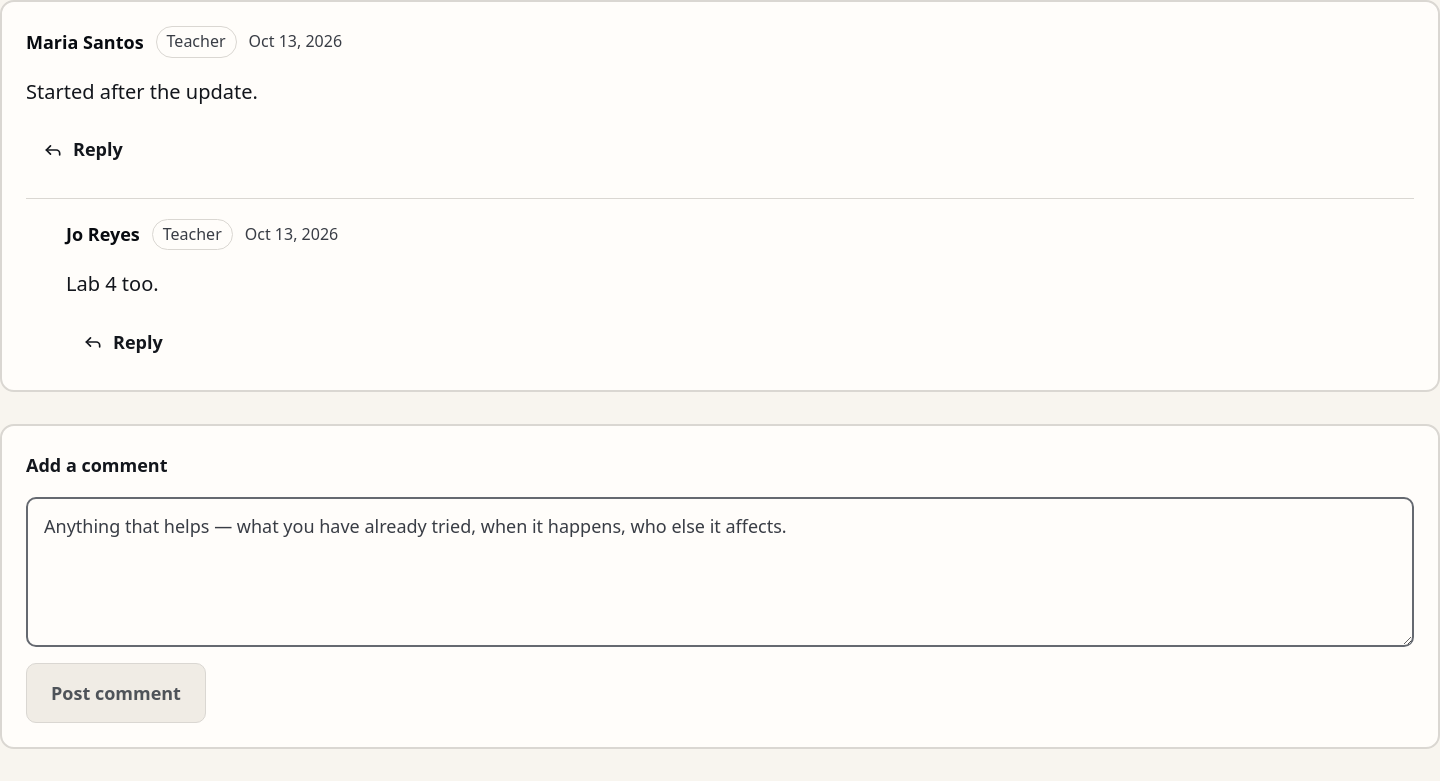
it: TicketComments threads › closes the reply with Escape, keeping what was there before
Step 1. Click the button with aria-label "Reply to Maria Santos" → [83, 150], box [26,126,140,174]
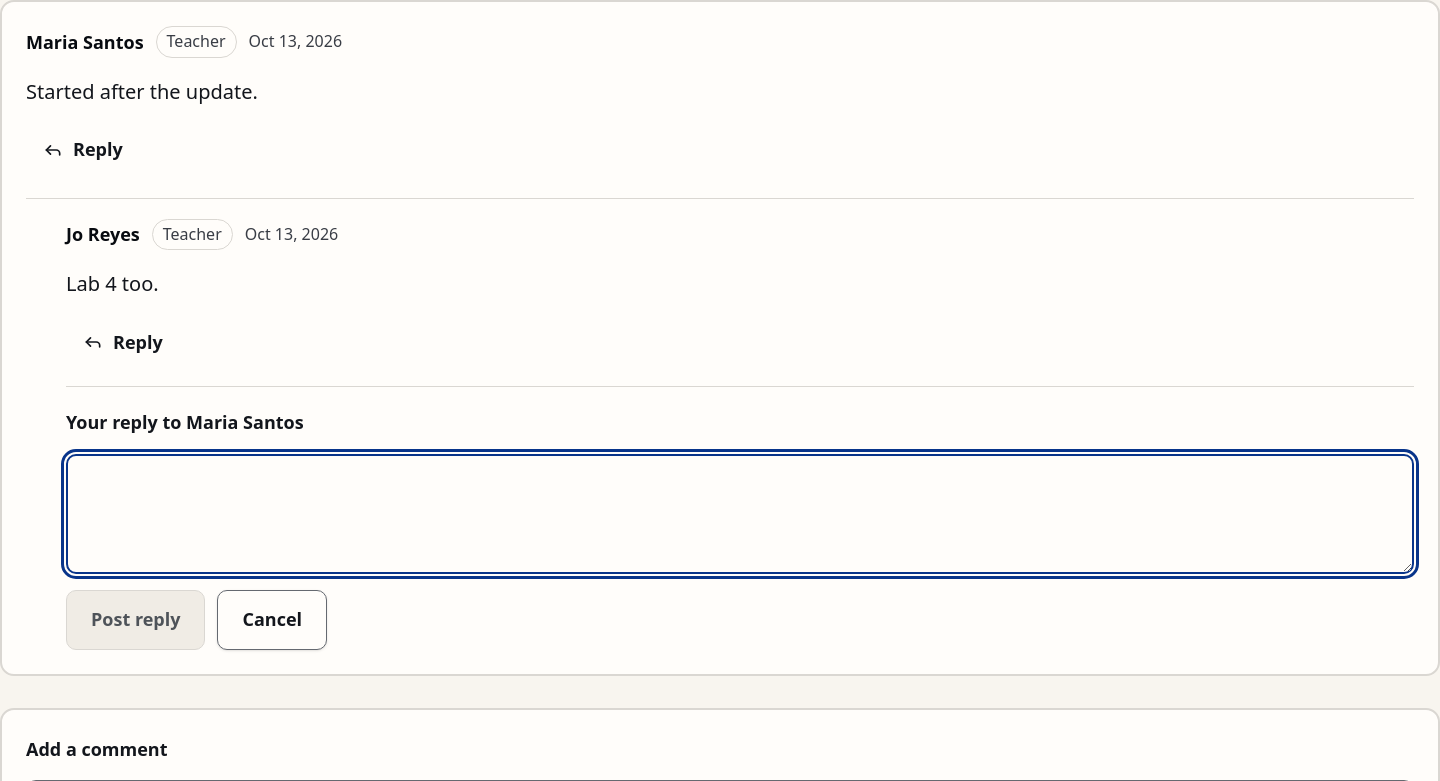
Step 2. Press Escape
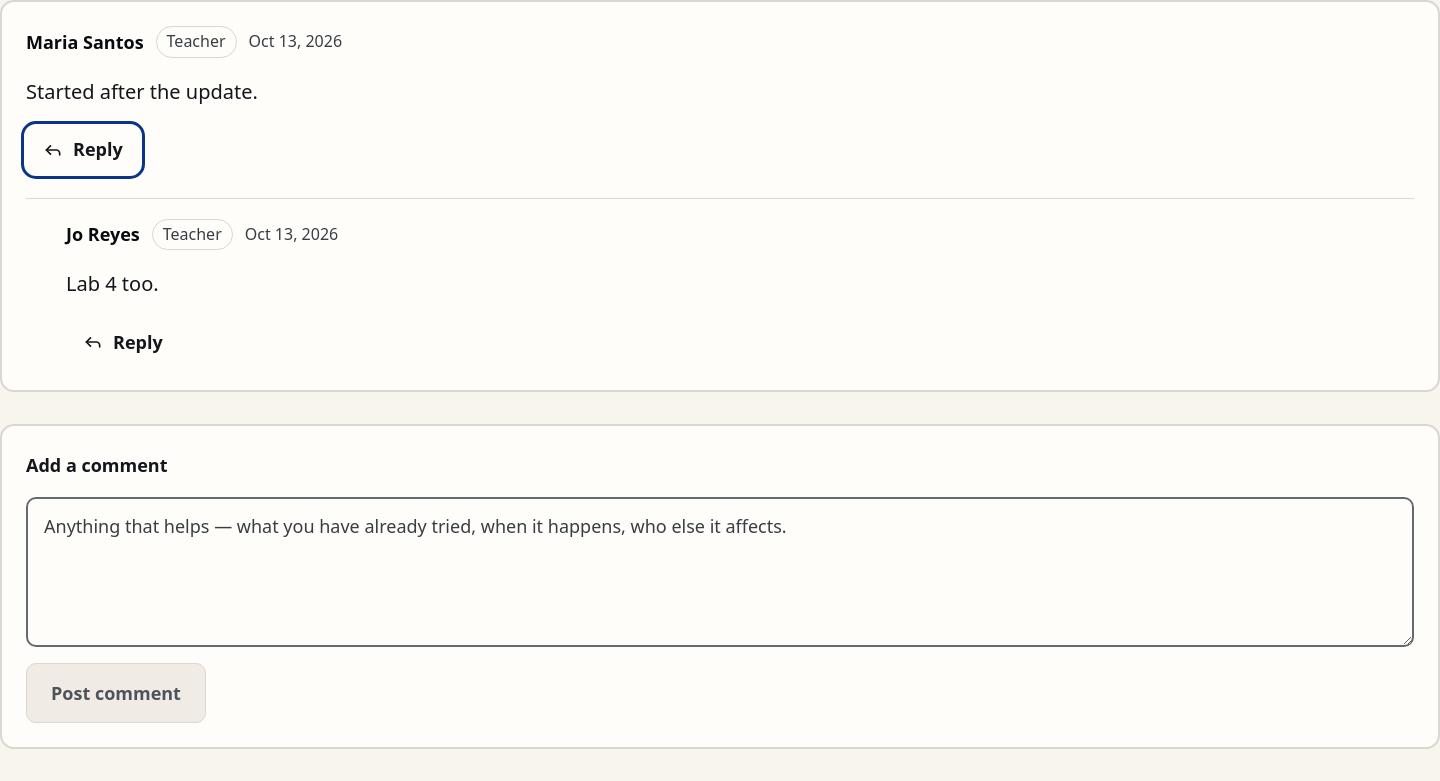
Check: the label "Your reply to Maria Santos" is gone
